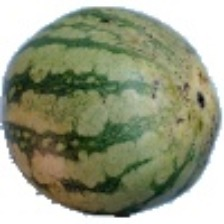watermelon: (33, 57, 179, 205)
